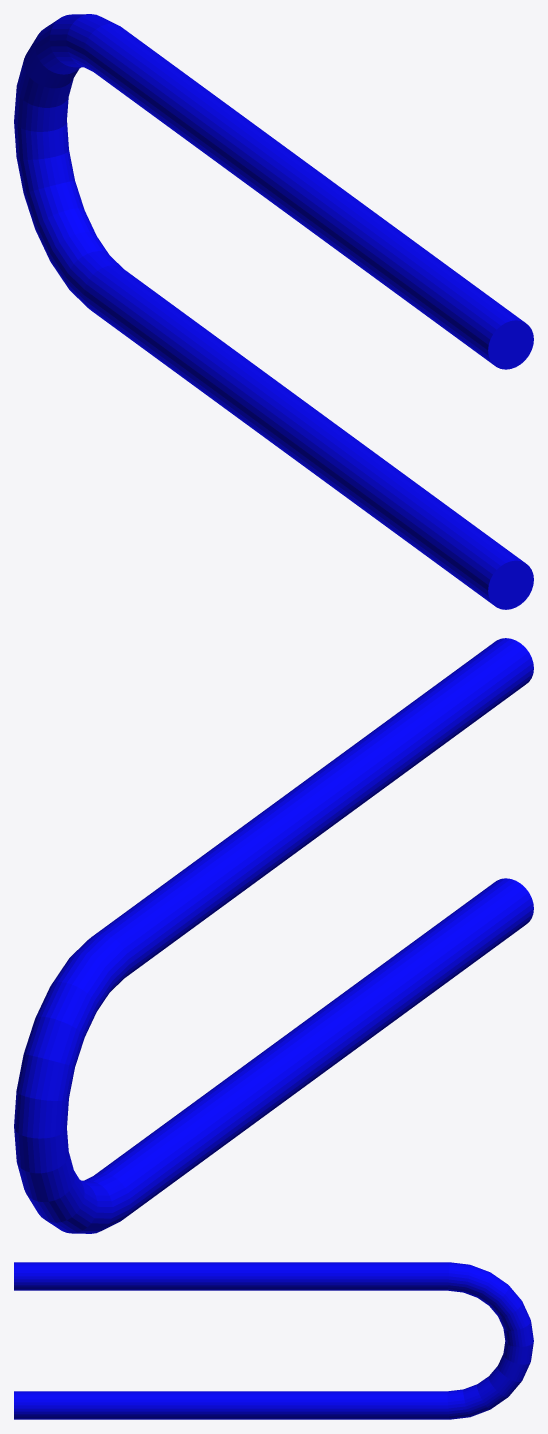
The model's file is shop_82.gltf.
3 renders of one model, top to bottom at view 1: azimuth 30°, elevation 25°; view 2: azimuth 150°, elevation 25°; view 3: azimuth 270°, elevation 25°, orthographic. The views are drawn at different scales.
Parts seen in each view (by area): view 1: 82 102862 BAR20 VERANKERING ST37; view 2: 82 102862 BAR20 VERANKERING ST37; view 3: 82 102862 BAR20 VERANKERING ST37.
Boxes of the visible parts, bbox=[...] form: 82 102862 BAR20 VERANKERING ST37: bbox=[14, 14, 533, 609]; 82 102862 BAR20 VERANKERING ST37: bbox=[14, 638, 533, 1233]; 82 102862 BAR20 VERANKERING ST37: bbox=[14, 1262, 533, 1419].
Bounding box in the file's own units: 20 × 120 × 365.
